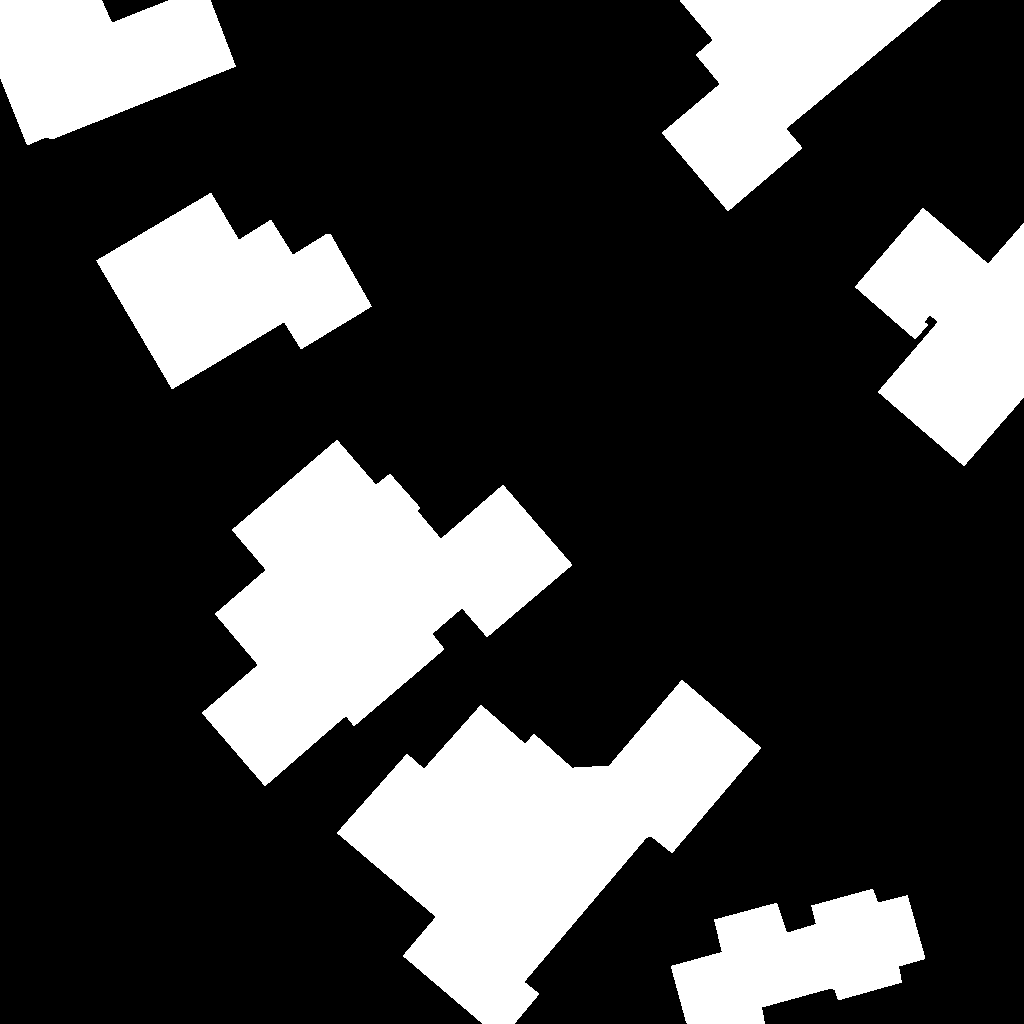building: (337, 680, 762, 1024), (202, 440, 573, 787), (662, 0, 942, 212), (96, 193, 373, 390), (855, 208, 1024, 467), (0, 0, 237, 146), (671, 889, 926, 1024)
